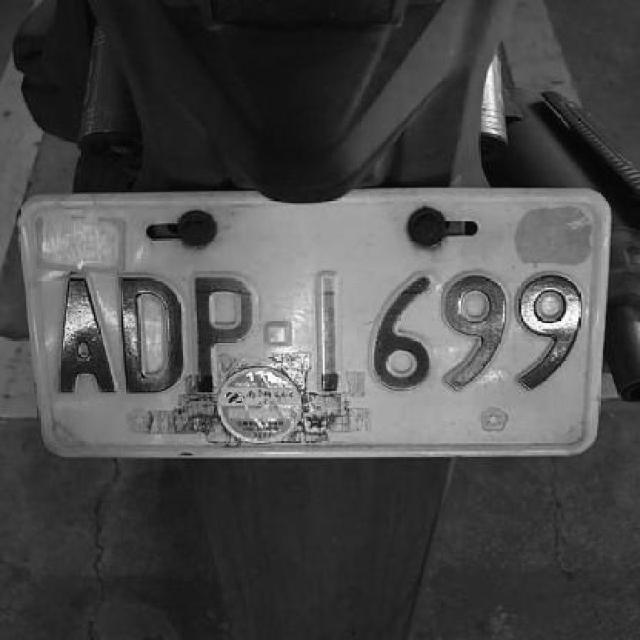1: (314, 266, 344, 396)
6: (366, 265, 436, 392)
9: (504, 266, 584, 391), (434, 264, 509, 390)
A: (43, 268, 115, 394)
D: (116, 277, 186, 394)
P: (191, 266, 260, 399)
